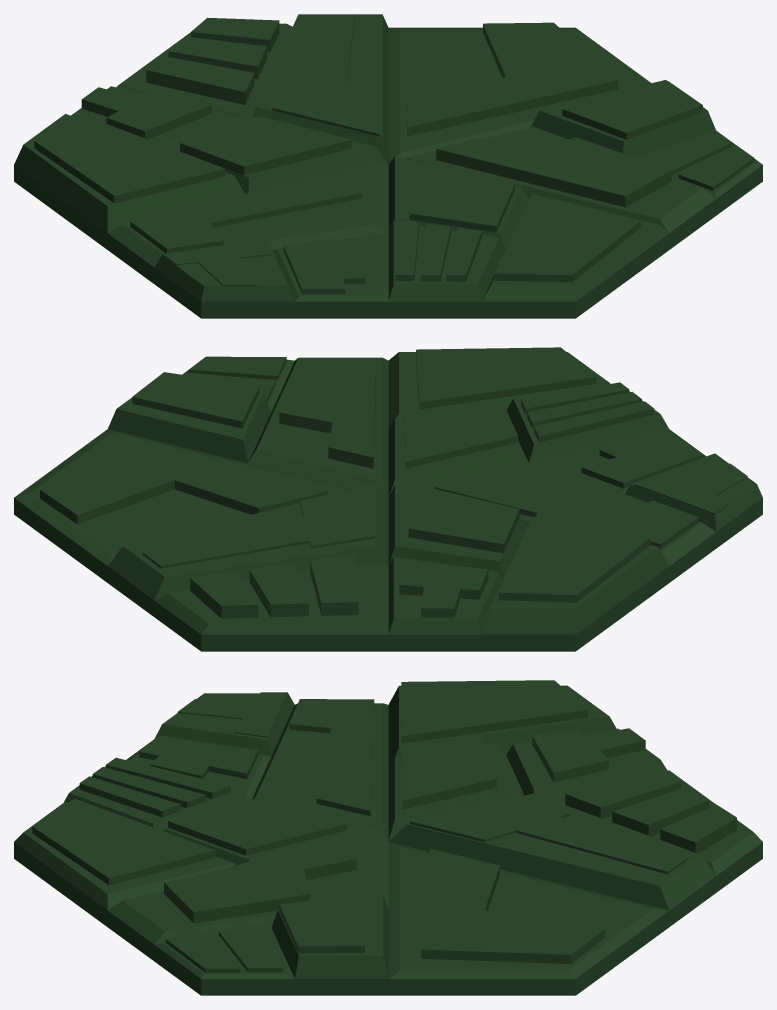
The model's file is DysonSphereHex01.FBX.
3 renders of one model, top to bottom at view 1: azimuth 30°, elevation 25°; view 2: azimuth 150°, elevation 25°; view 3: azimuth 270°, elevation 25°, orthographic.
Visible parts, largest first — view 1: Hexagon01; view 2: Hexagon01; view 3: Hexagon01.
Boxes of the visible parts, x1,y1,x2,y2 form: Hexagon01: (14, 14, 762, 318); Hexagon01: (14, 347, 762, 651); Hexagon01: (14, 680, 762, 995).
Bounding box in the file's own units: 34.95 × 2.75 × 40.35.
